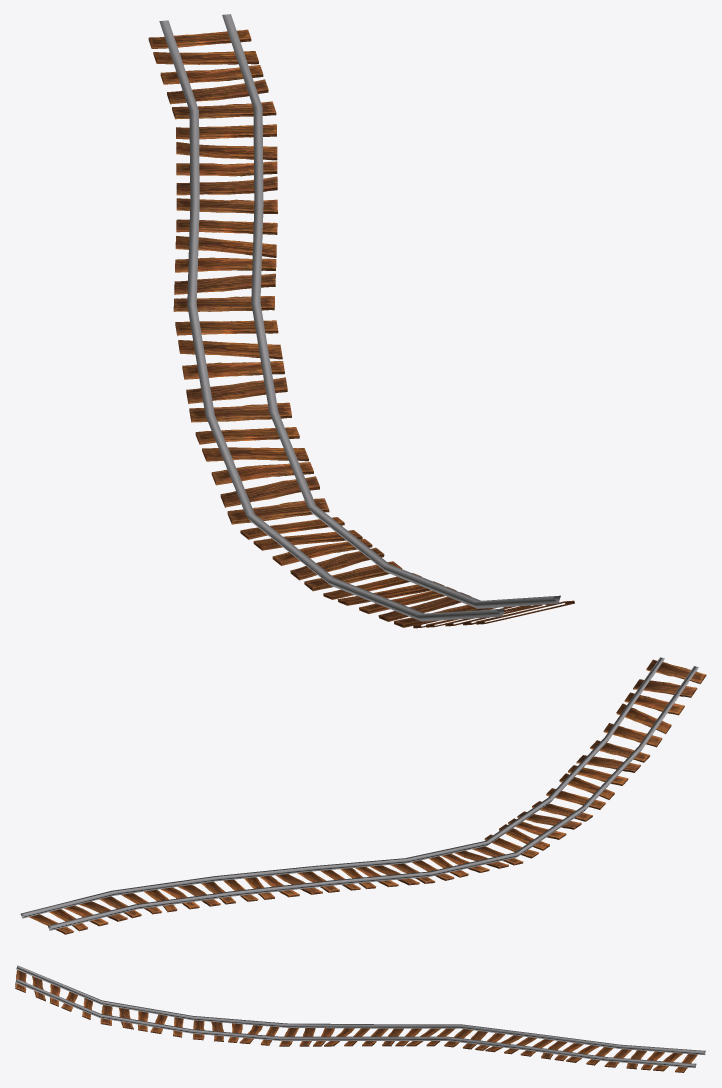
Rendered from SWORDLIGHT20_TRACK1A.fbx.
3 views of the same model, one above another, from view 1: azimuth 30°, elevation 25°; view 2: azimuth 150°, elevation 25°; view 3: azimuth 270°, elevation 25° (orthographic). The views are drawn at different scales.
Parts seen in each view (by area): view 1: SWORDLIGHT20_TRACK1A; view 2: SWORDLIGHT20_TRACK1A; view 3: SWORDLIGHT20_TRACK1A.
Boxes of the visible parts, x1,y1,x2,y2 form: SWORDLIGHT20_TRACK1A: (148, 14, 574, 628); SWORDLIGHT20_TRACK1A: (20, 657, 706, 934); SWORDLIGHT20_TRACK1A: (15, 965, 705, 1072).
Bounding box in the file's own units: 80567 × 20746 × 222324.
Materials: 2 (2 with a texture image).
